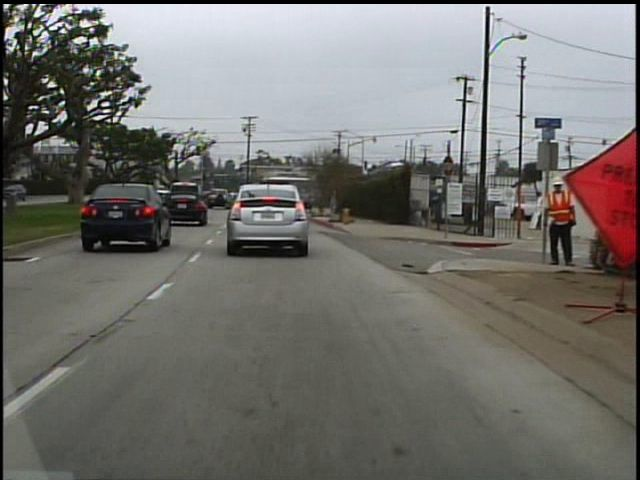person: (534, 180, 573, 270)
